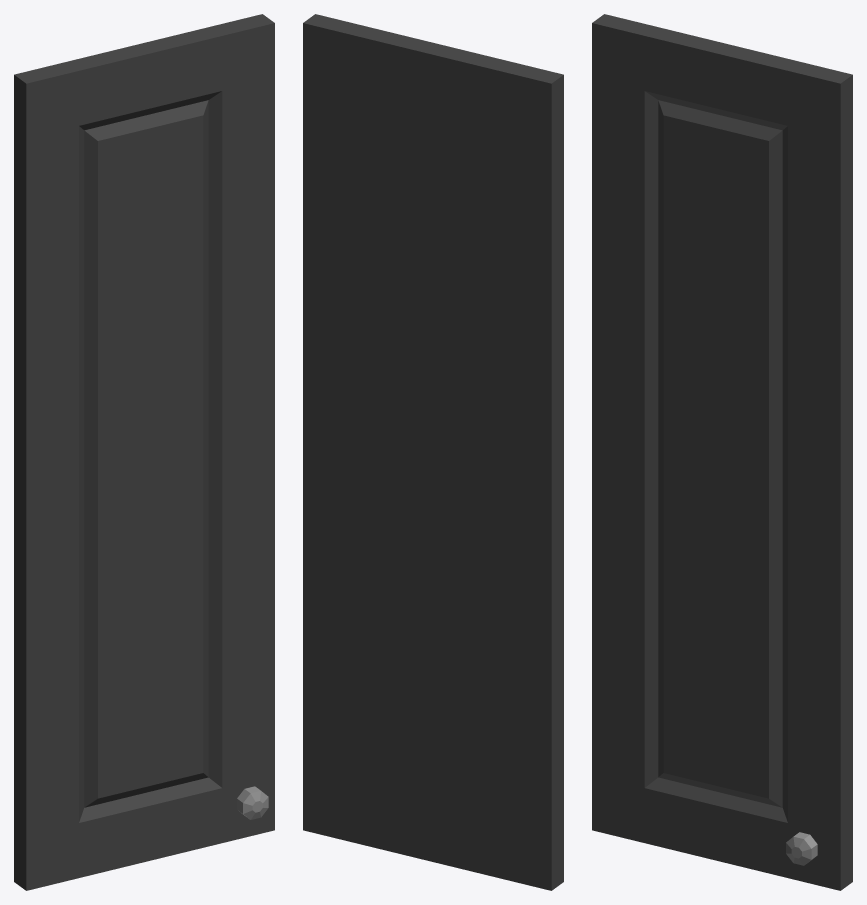
The model's file is Door3_C3_14.fbx.
The picture shows the model from 3 angles, left to right: view 1: azimuth 30°, elevation 25°; view 2: azimuth 150°, elevation 25°; view 3: azimuth 330°, elevation 25°; orthographic projection.
Visible parts, largest first — view 1: Door3_C3_14; view 2: Door3_C3_14; view 3: Door3_C3_14.
Part boxes in pixels (x1,y1,x2,y2): Door3_C3_14: (14, 14, 274, 890); Door3_C3_14: (303, 14, 563, 890); Door3_C3_14: (592, 14, 852, 890).
Bounding box in the file's own units: 29 × 90 × 5.19.
